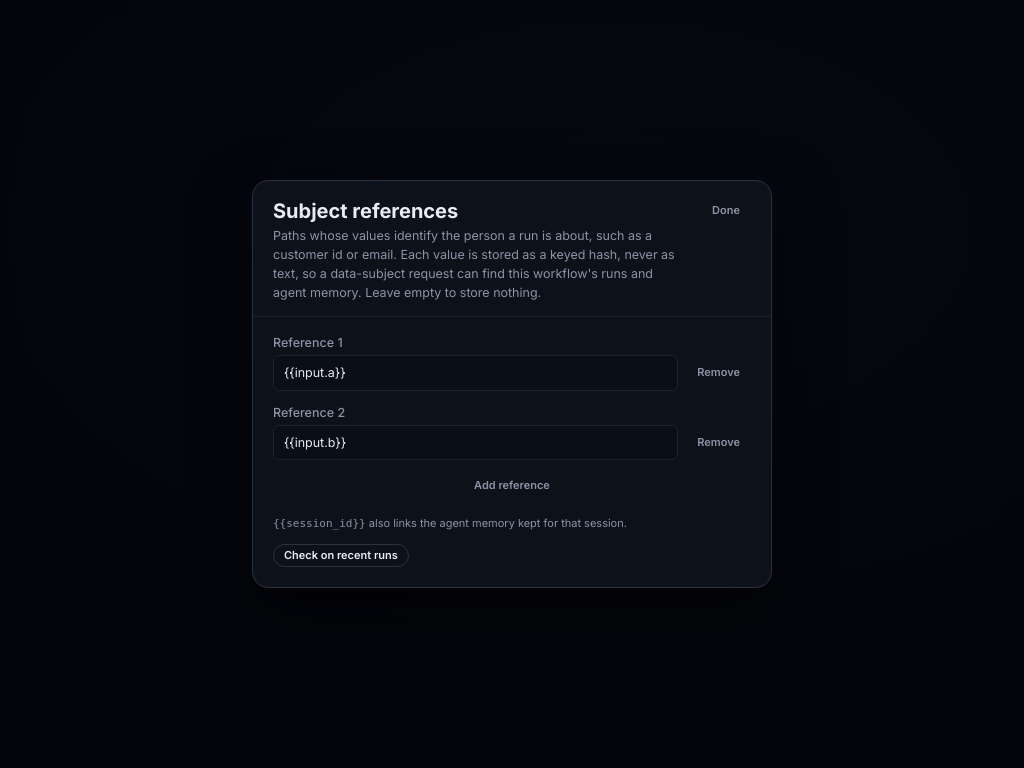
subject references dialog › allows at most three references
Click the button "Add reference" at coordinates (512, 486), box [273,474,751,498]
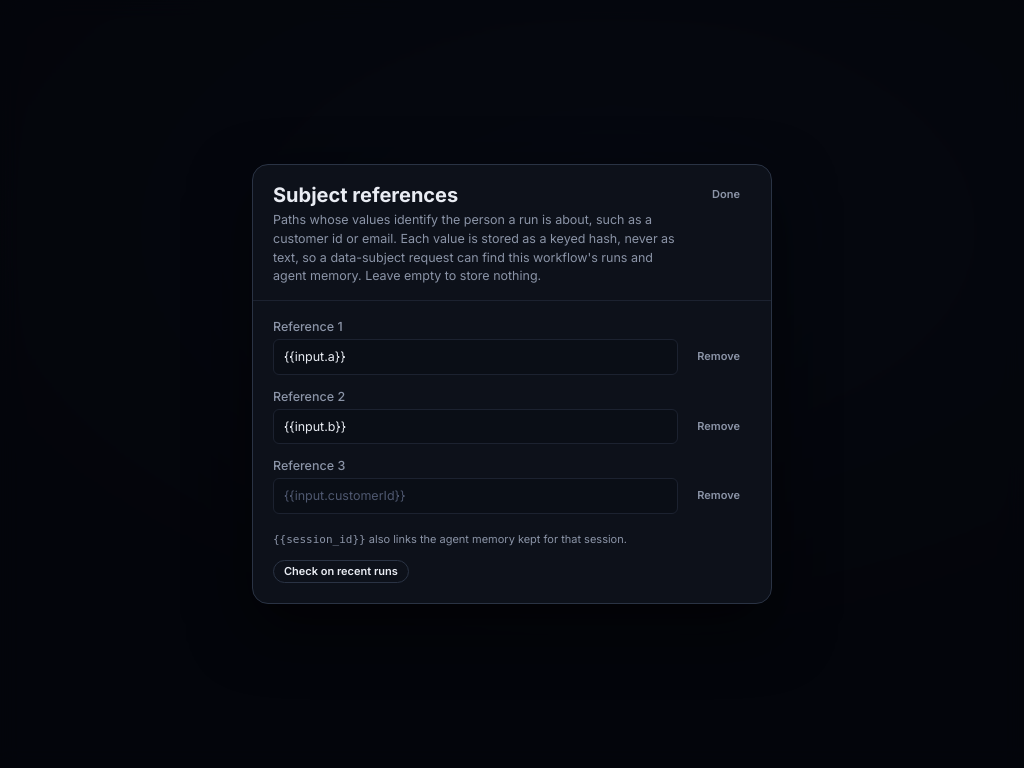
Now the field labelled "Reference 3" is shown, box [273,478,678,514]
Now the button "Add reference" is gone
